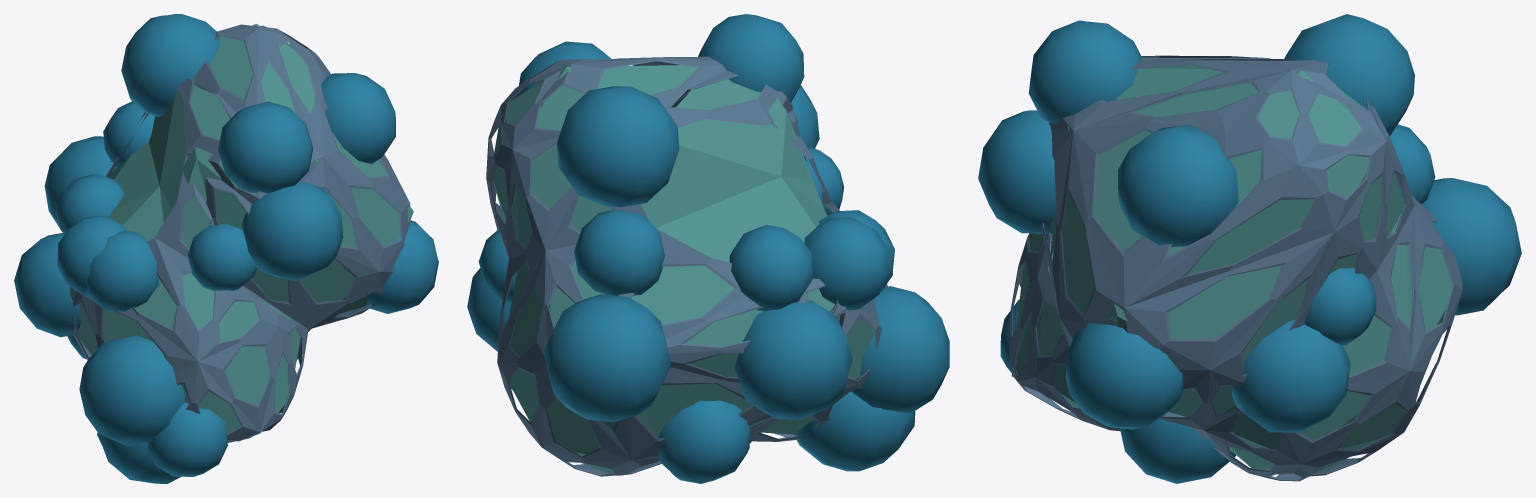
File: glueBush10.fbx
3 renders of one model, left to right at view 1: azimuth 30°, elevation 25°; view 2: azimuth 150°, elevation 25°; view 3: azimuth 270°, elevation 25°, orthographic. The views are drawn at different scales.
Parts seen in each view (by area): view 1: Mball.013; view 2: Mball.013; view 3: Mball.013.
Boxes of the visible parts, bbox=[...] form: Mball.013: bbox=[14, 14, 438, 483]; Mball.013: bbox=[467, 14, 949, 483]; Mball.013: bbox=[978, 14, 1521, 483].
Size of the model in its own units: 257 by 257 by 274.
